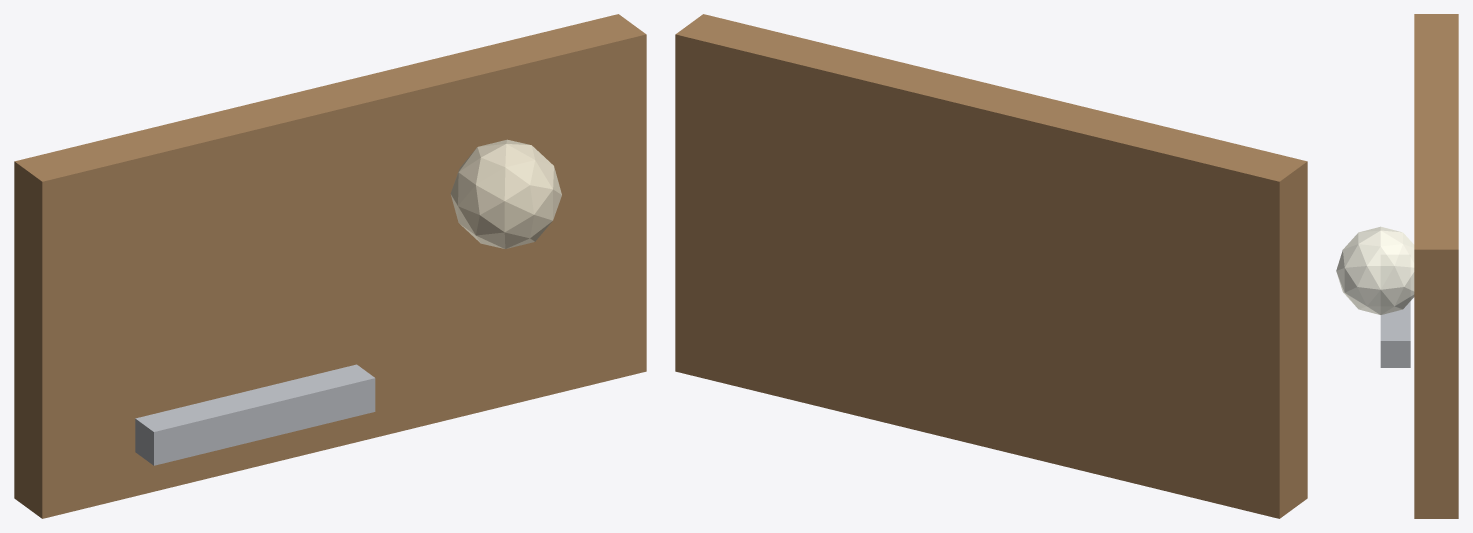
The model's file is gem_cutting_station.glb.
3 renders of one model, left to right at view 1: azimuth 30°, elevation 25°; view 2: azimuth 150°, elevation 25°; view 3: azimuth 270°, elevation 25°, orthographic. The views are drawn at different scales.
Visible parts, largest first — view 1: bench_top, tool_a, power_core; view 2: bench_top; view 3: bench_top, power_core, tool_a.
Boxes of the visible parts, <box> form: bench_top: <box>14,14,646,518</box>; tool_a: <box>135,364,375,465</box>; power_core: <box>450,139,561,248</box>; bench_top: <box>675,14,1307,518</box>; bench_top: <box>1414,14,1458,518</box>; power_core: <box>1336,226,1414,314</box>; tool_a: <box>1380,255,1410,367</box>.
Size of the model in its own units: 1.5 by 0.8 by 0.33.
